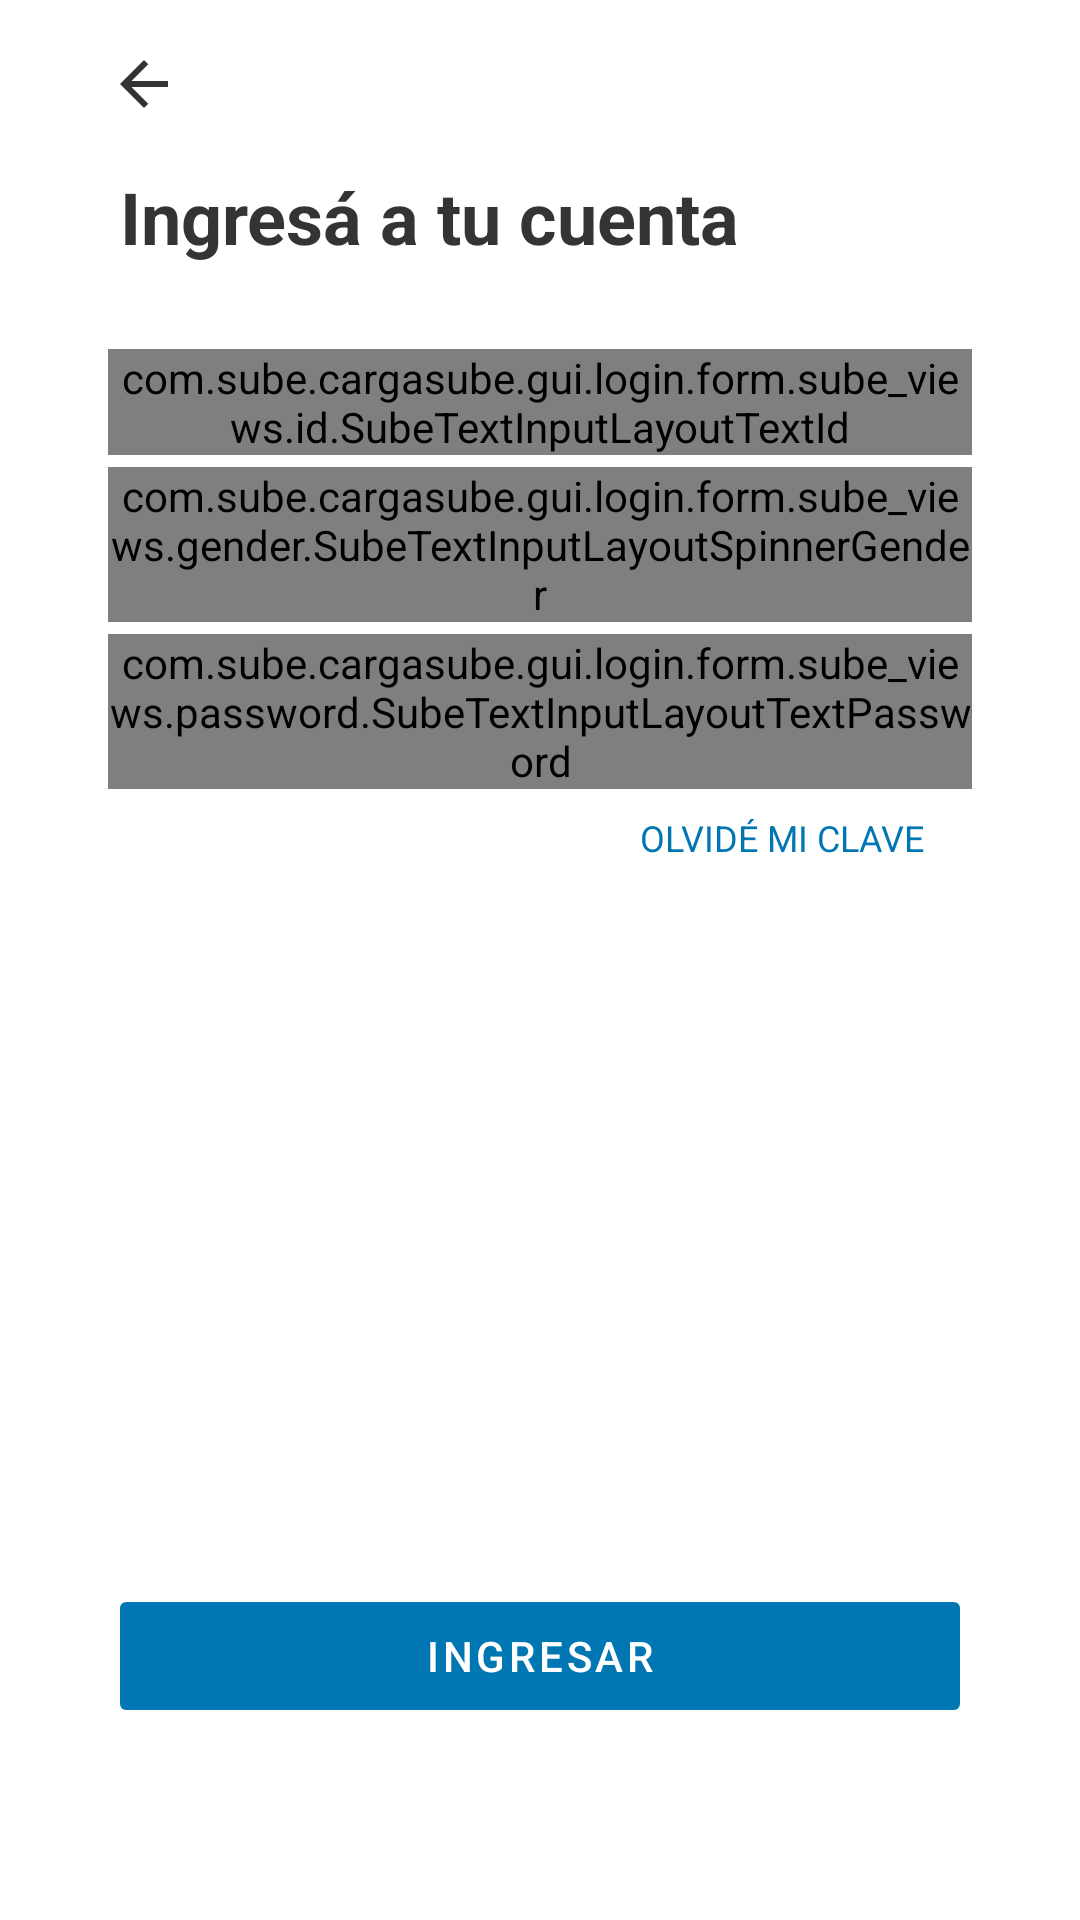

Locate icon controls on the screen. Image size 1080×1920, boxes as region(x1, y1, x2, y2).
arrow back sube: region(120, 60, 168, 108)
